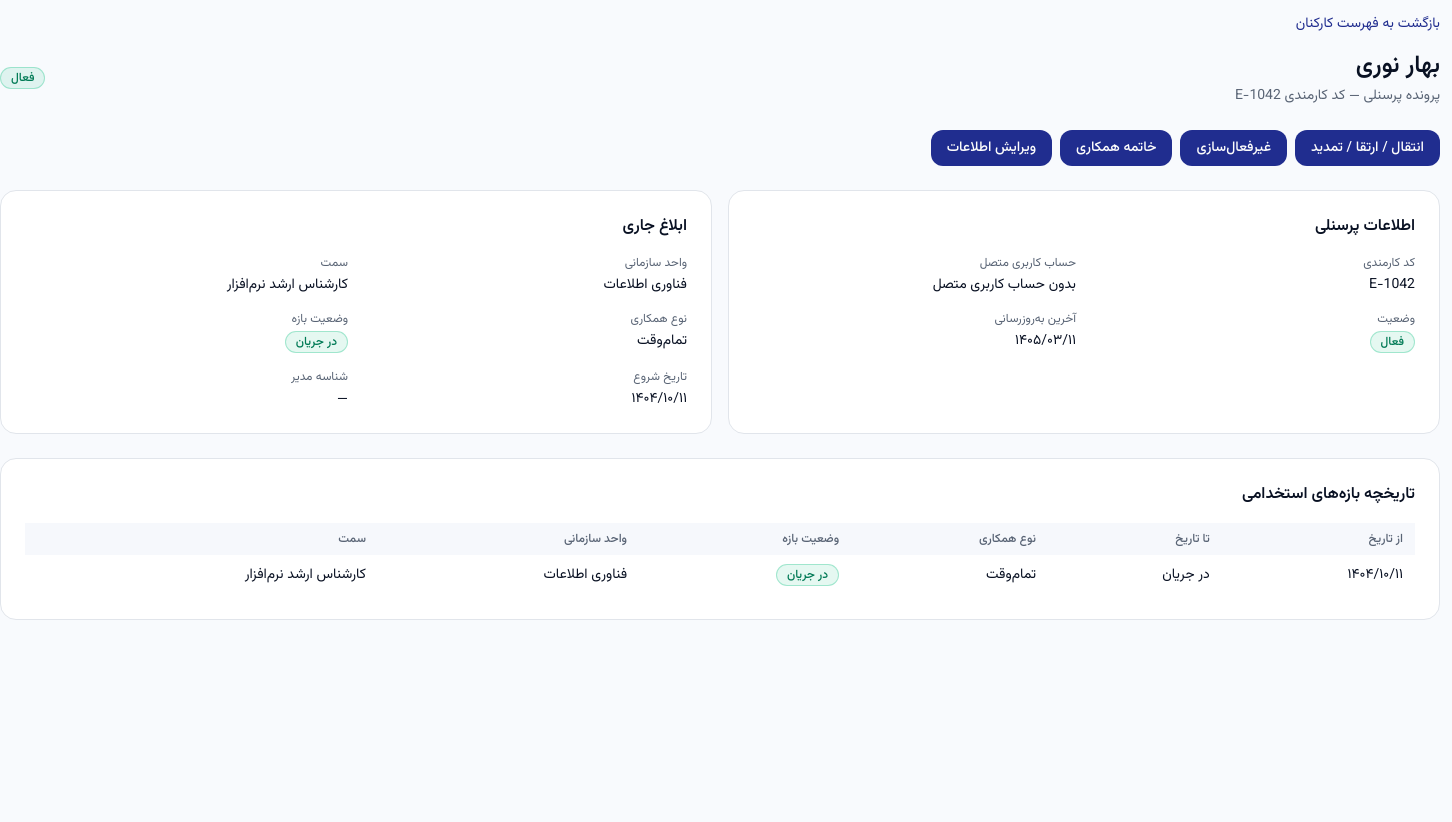
Test case: HrEmployeeDetailView › surfaces a rejected mutation as an alert instead of corrupting the screen
This screenshot has width=1452, height=822.
Step 1. Click the button with test id "hr-detail-deactivate" → coordinates (1234, 148), box [1180, 130, 1287, 166]
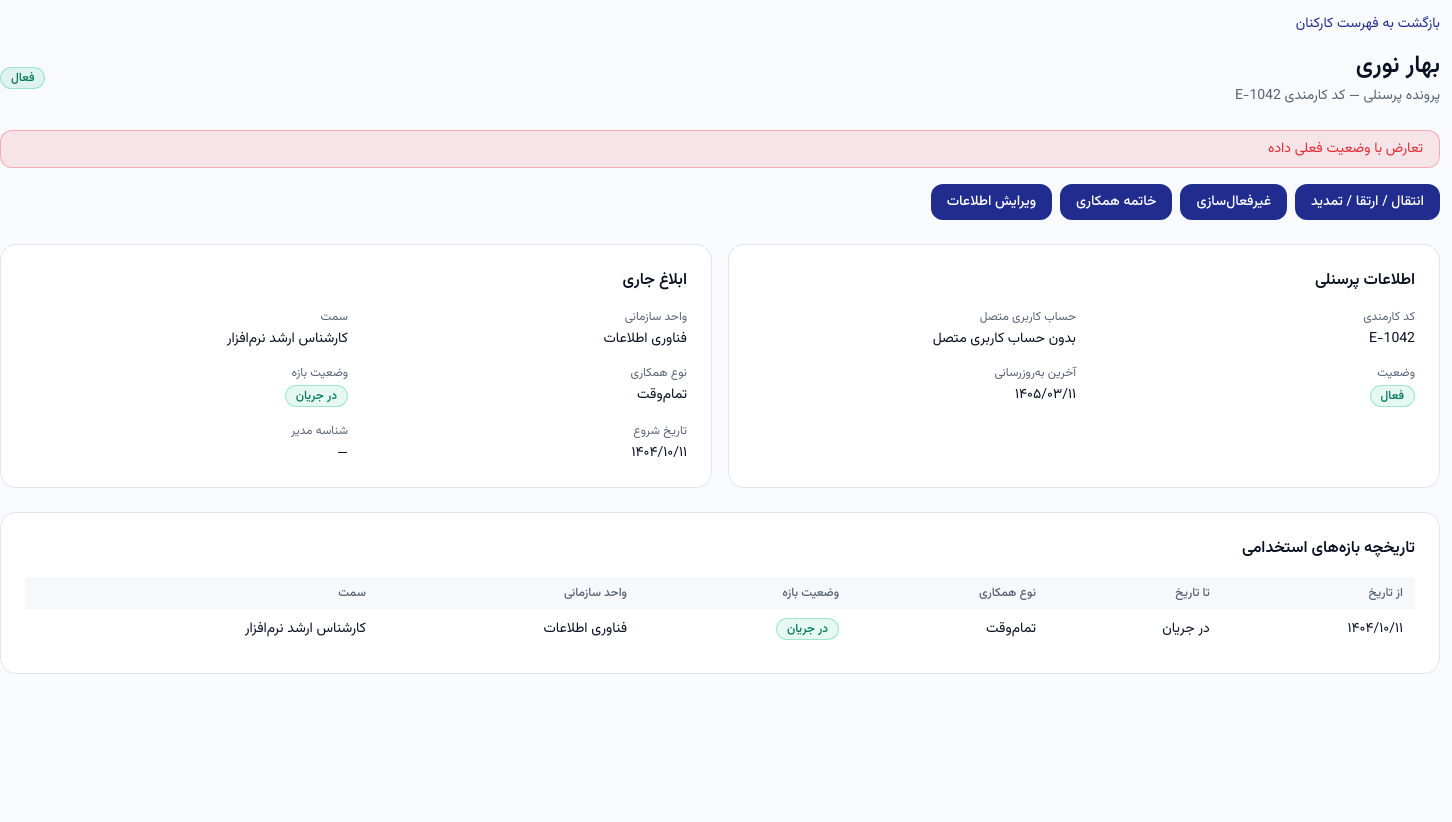
expect the message with test id "hr-notice-error" reads "تعارض با وضعیت فعلی داده": met, box [1268, 138, 1423, 160]
